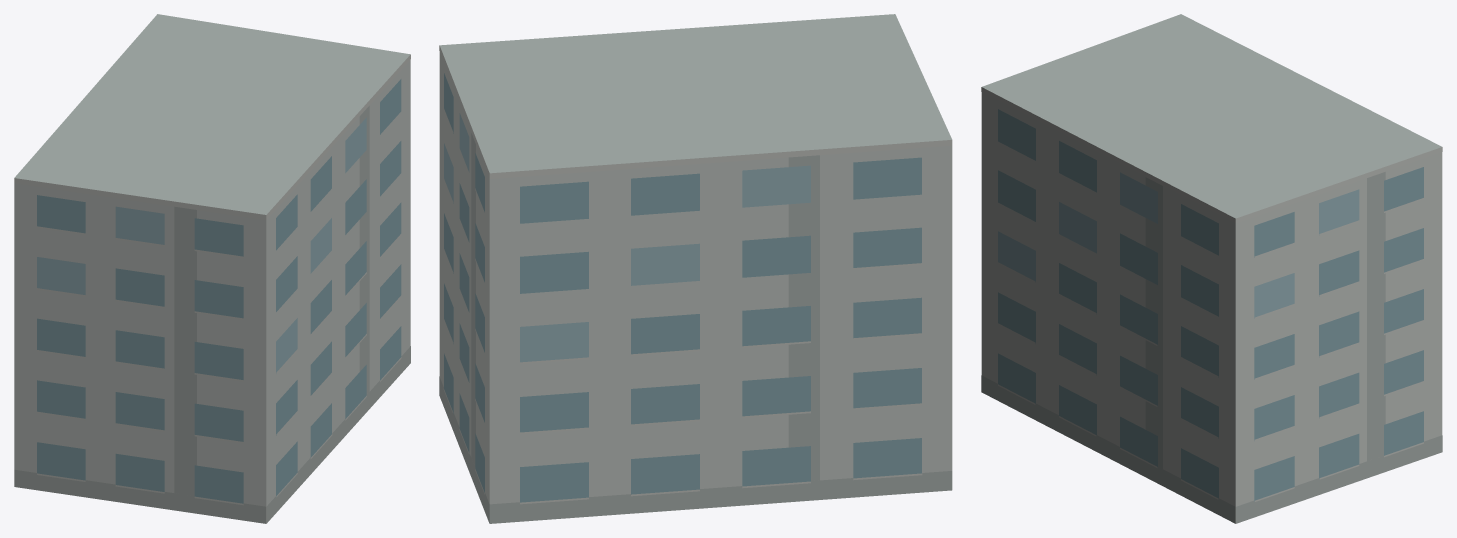
File: survey-upis-32747891.glb
The picture shows the model from 3 angles, left to right: view 1: azimuth 30°, elevation 25°; view 2: azimuth 150°, elevation 25°; view 3: azimuth 270°, elevation 25°; orthographic projection. The views are drawn at different scales.
Visible parts, largest first — view 1: survey-upis-32747891.tmp; view 2: survey-upis-32747891.tmp; view 3: survey-upis-32747891.tmp.
Part boxes in pixels (box(x1,y1,x2,y2)): survey-upis-32747891.tmp: box(14, 14, 410, 523); survey-upis-32747891.tmp: box(439, 14, 952, 523); survey-upis-32747891.tmp: box(981, 14, 1442, 523).
Size of the model in its own units: 20.99 by 14.6 by 19.98.
